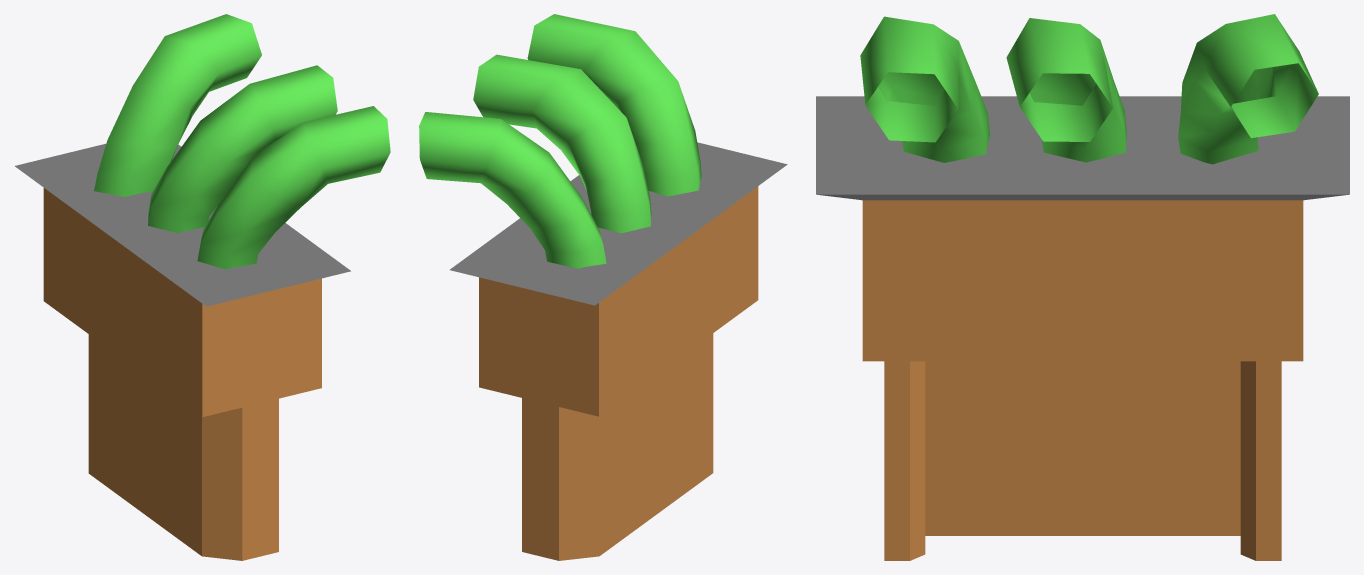
File: Modulo de Conectores 1.fbx
3 renders of one model, left to right at view 1: azimuth 30°, elevation 25°; view 2: azimuth 150°, elevation 25°; view 3: azimuth 270°, elevation 25°, orthographic. The views are drawn at different scales.
Visible parts, largest first — view 1: Cube.000; view 2: Cube.000; view 3: Cube.000.
Boxes of the visible parts, x1,y1,x2,y2 form: Cube.000: (15, 14, 390, 560); Cube.000: (419, 14, 787, 560); Cube.000: (816, 14, 1349, 560).
Size of the model in its own units: 245 by 453 by 388.
